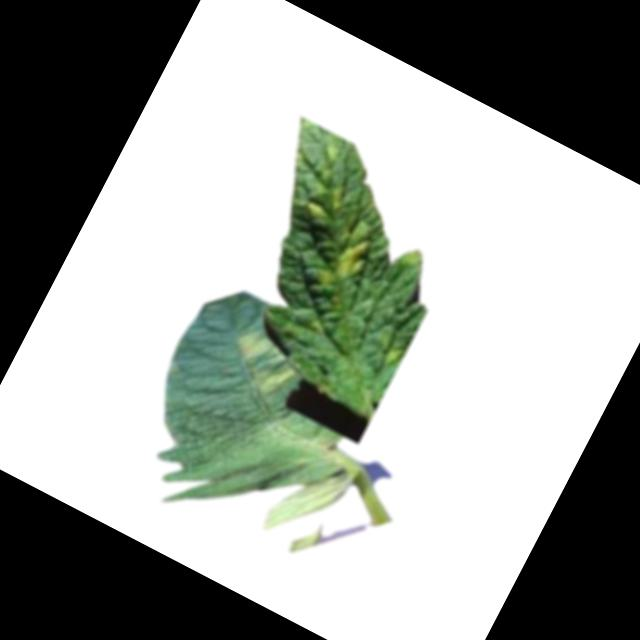Leaf_Mold: (311, 214, 381, 298), (297, 171, 350, 228), (244, 352, 298, 404), (229, 325, 273, 367)
